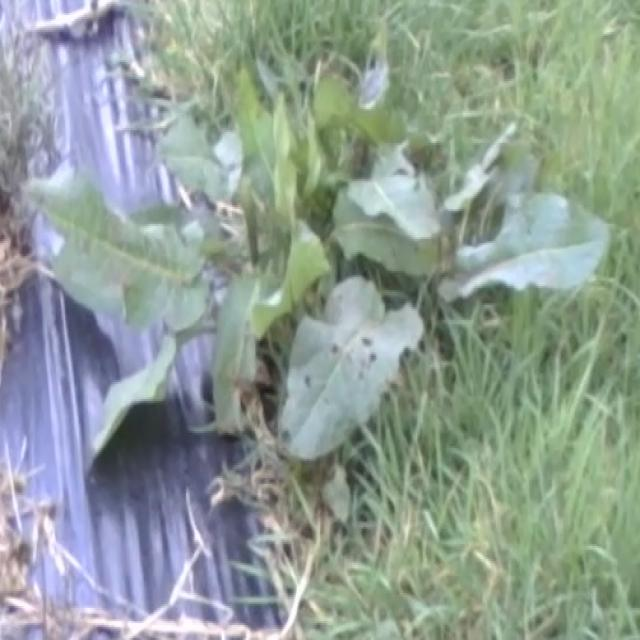organic waste: (0, 31, 599, 484)
